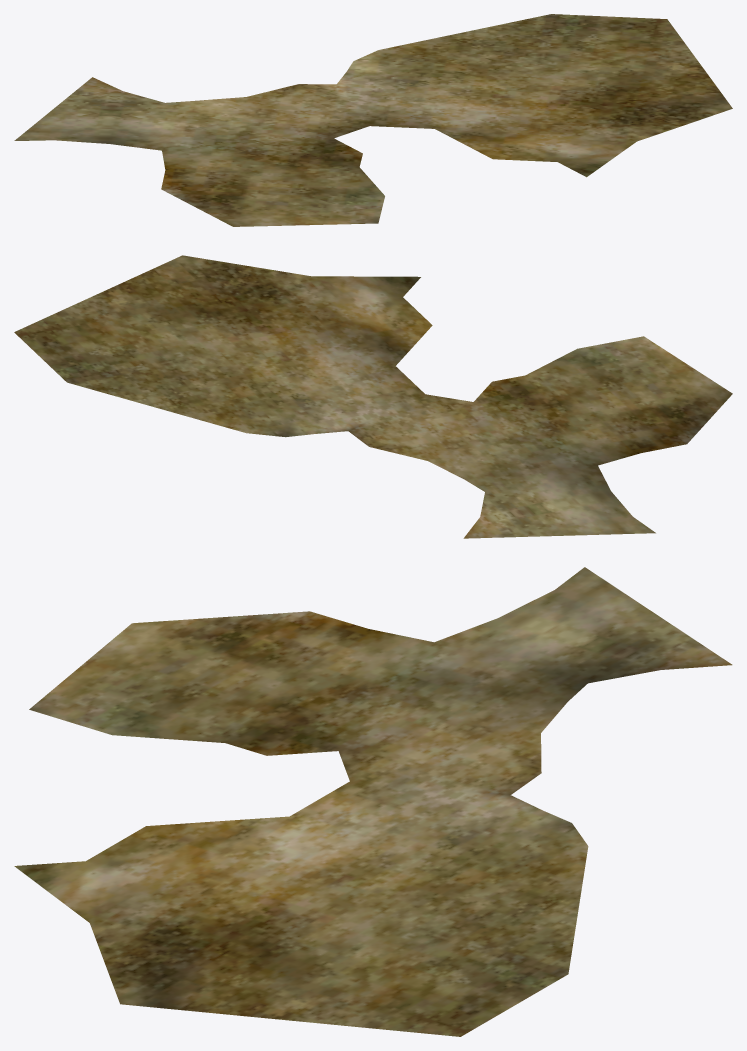
File: TROLLHOLE02_ZRM_PSURF113.fbx
3 views of the same model, one above another, from view 1: azimuth 30°, elevation 25°; view 2: azimuth 150°, elevation 25°; view 3: azimuth 270°, elevation 25° (orthographic). The views are drawn at different scales.
Visible parts, largest first — view 1: TROLLHOLE02_ZRM_PSURF113; view 2: TROLLHOLE02_ZRM_PSURF113; view 3: TROLLHOLE02_ZRM_PSURF113.
Part boxes in pixels (<box>): TROLLHOLE02_ZRM_PSURF113: <box>14,14,732,226</box>; TROLLHOLE02_ZRM_PSURF113: <box>14,255,732,538</box>; TROLLHOLE02_ZRM_PSURF113: <box>14,567,732,1036</box>.
Size of the model in its own units: 243395 by 791 by 156815.
1 material, 1 textured.
